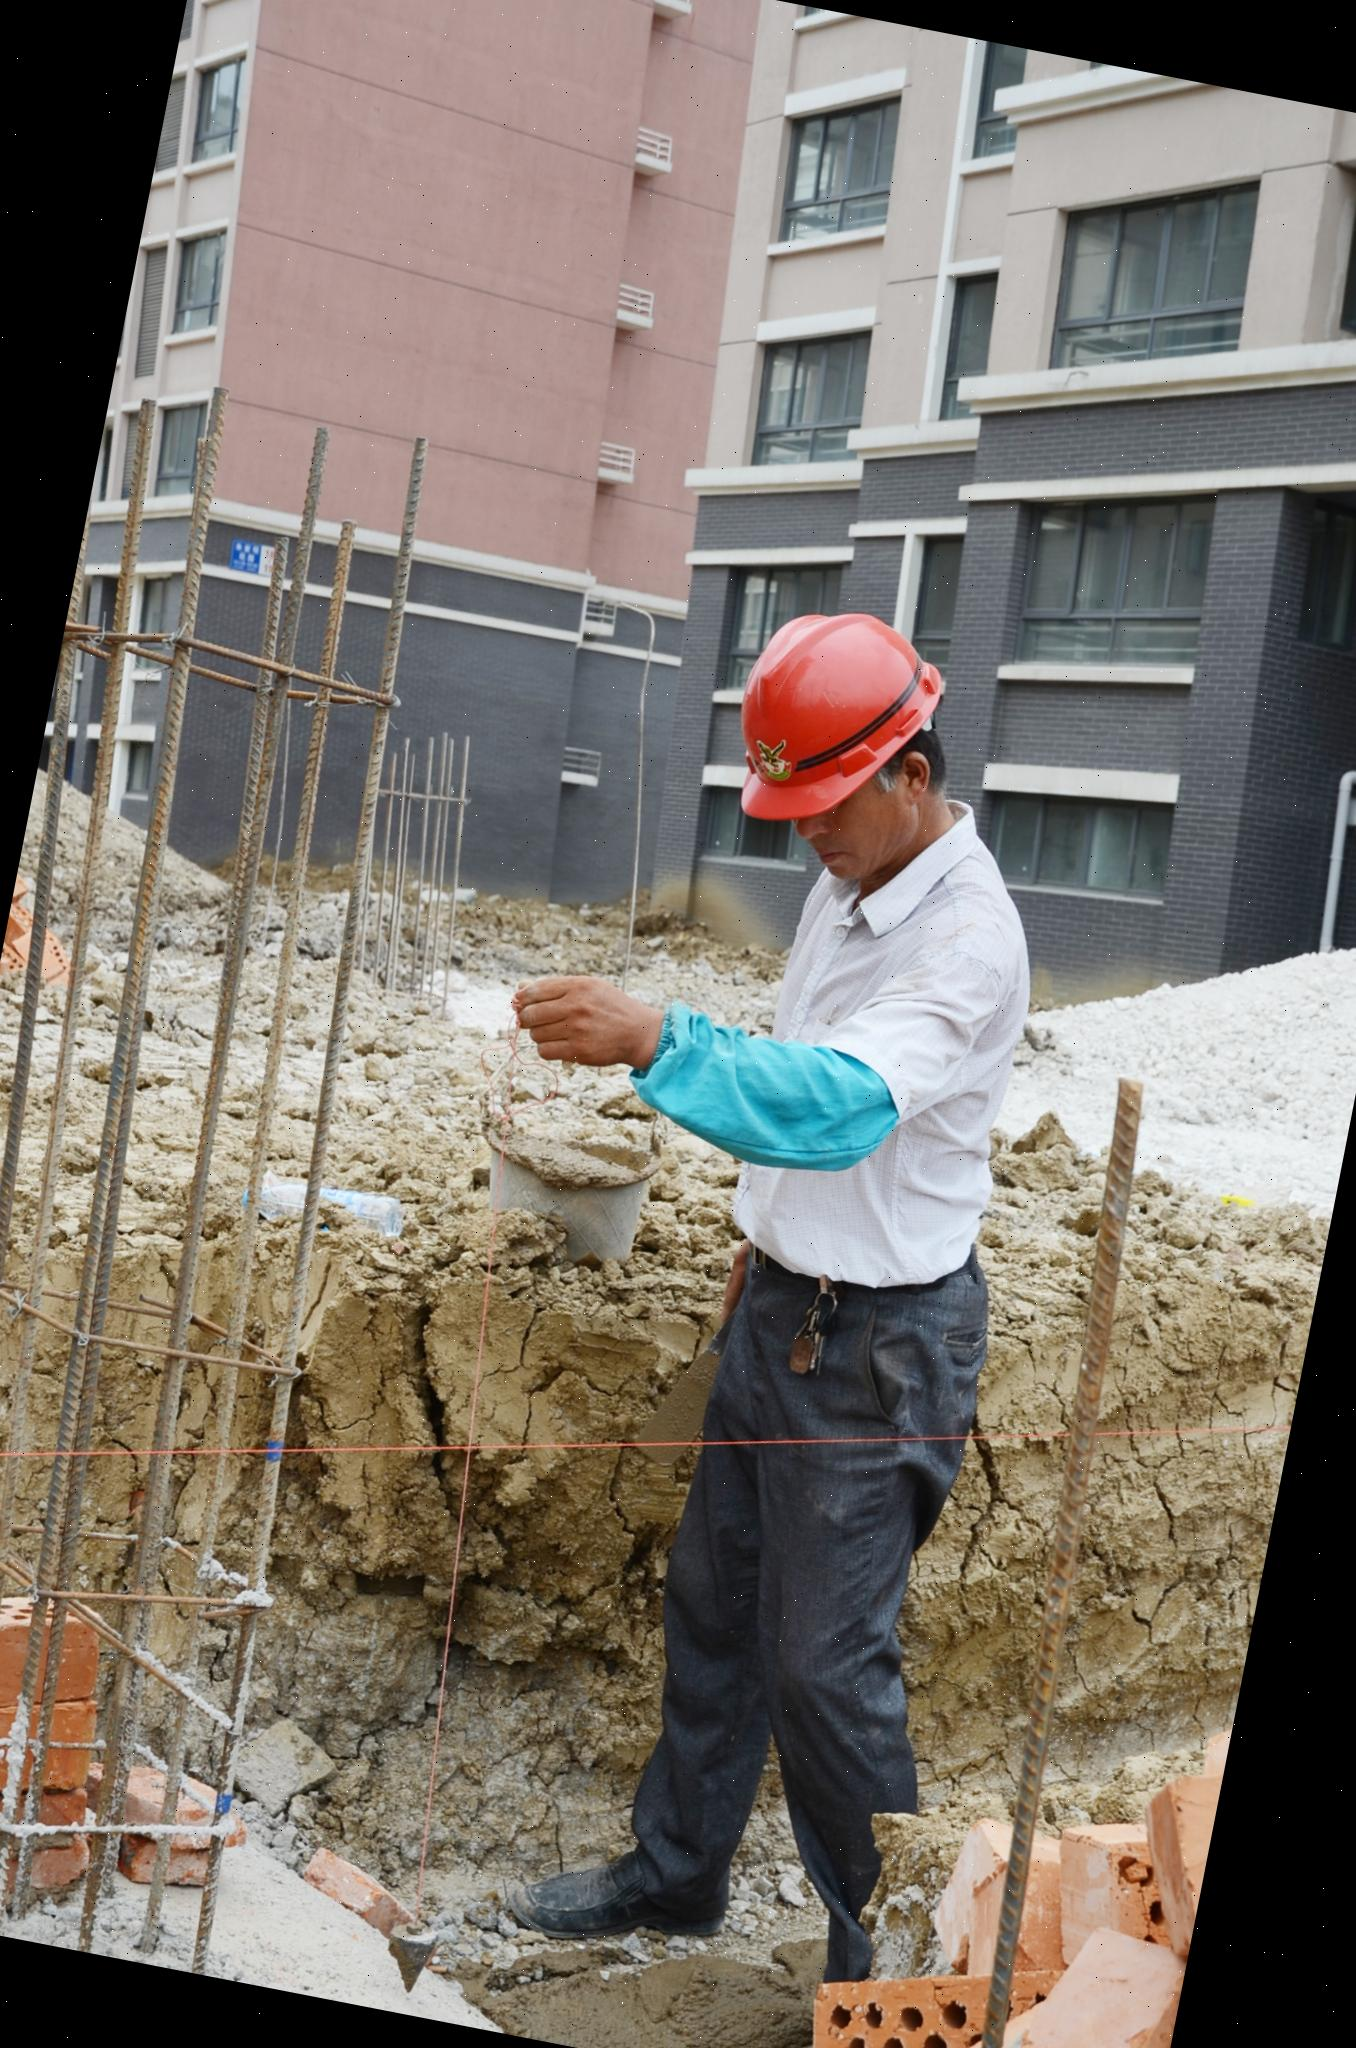helmet: (714, 584, 963, 852)
no_wear: (728, 853, 1046, 1314)
